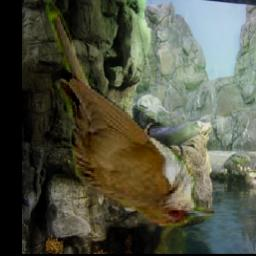Cuckoo: (47, 0, 215, 230)
